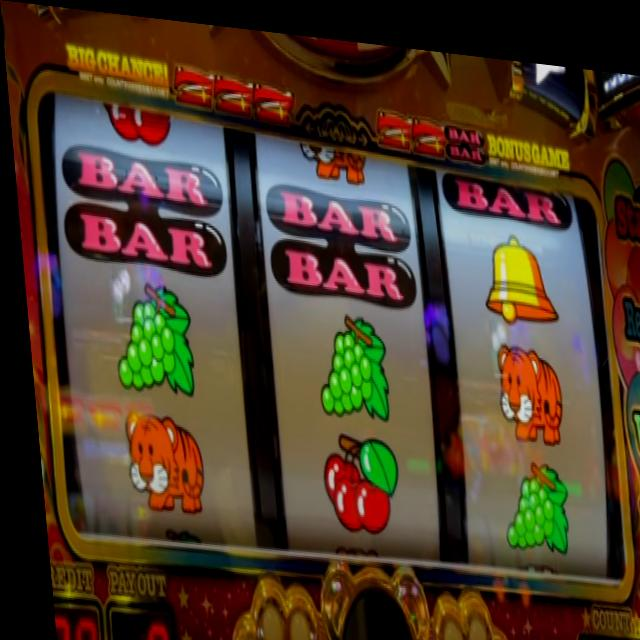bar: (54, 144, 225, 274), (260, 178, 414, 300), (438, 158, 573, 217), (444, 110, 485, 153)
bell: (474, 216, 557, 320)
cherry: (312, 418, 396, 531), (99, 98, 174, 145)
display: (30, 92, 622, 573)
grape: (104, 273, 191, 400), (306, 297, 386, 417), (491, 442, 566, 549)
tiger: (114, 405, 198, 514), (489, 330, 560, 438), (296, 127, 368, 178)
z: (252, 71, 295, 118), (211, 68, 254, 112), (172, 62, 214, 104), (374, 99, 412, 139), (411, 105, 446, 148)
